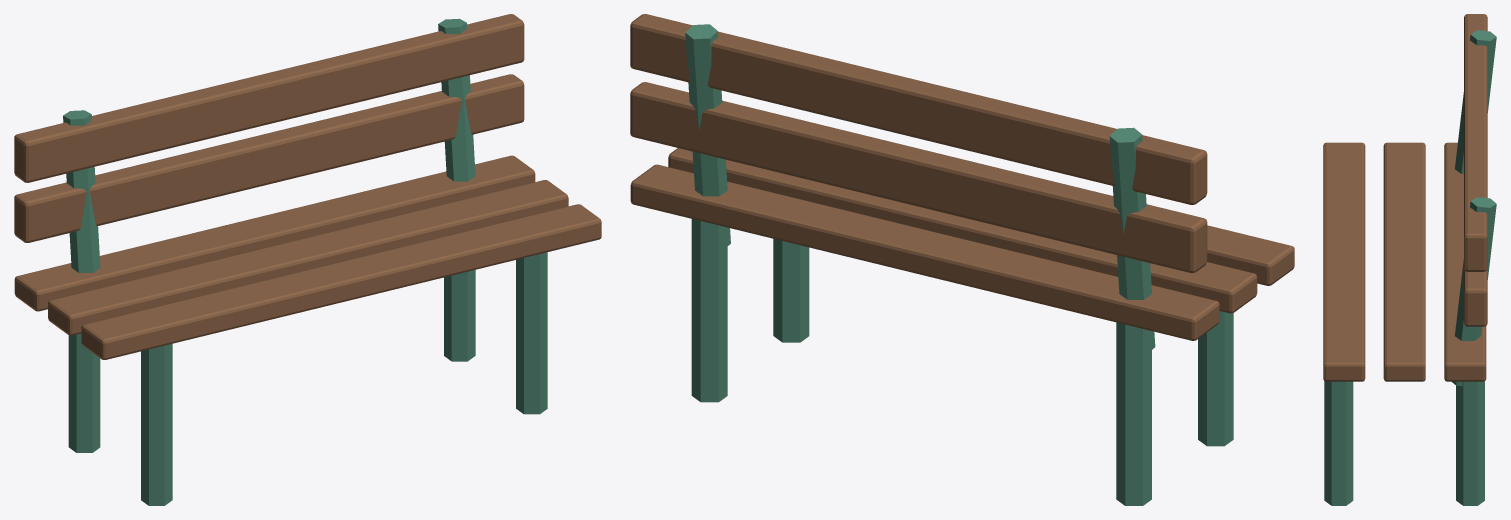
The model's file is tpe5_street_bench.glb.
3 views of the same model, side by side, from view 1: azimuth 30°, elevation 25°; view 2: azimuth 150°, elevation 25°; view 3: azimuth 270°, elevation 25° (orthographic). The views are drawn at different scales.
Parts seen in each view (by area): view 1: tpe5_street_bench__tpe5-street-walnut, tpe5_street_bench__tpe5-street-jade; view 2: tpe5_street_bench__tpe5-street-walnut, tpe5_street_bench__tpe5-street-jade; view 3: tpe5_street_bench__tpe5-street-walnut, tpe5_street_bench__tpe5-street-jade.
Part boxes in pixels (x1,y1,x2,y2): tpe5_street_bench__tpe5-street-walnut: (14, 14, 601, 359); tpe5_street_bench__tpe5-street-jade: (63, 18, 547, 505); tpe5_street_bench__tpe5-street-walnut: (630, 14, 1294, 340); tpe5_street_bench__tpe5-street-jade: (685, 24, 1233, 505); tpe5_street_bench__tpe5-street-walnut: (1323, 14, 1487, 381); tpe5_street_bench__tpe5-street-jade: (1324, 30, 1496, 505).
Bounding box in the file's own units: 2 × 1.26 × 0.6597.
